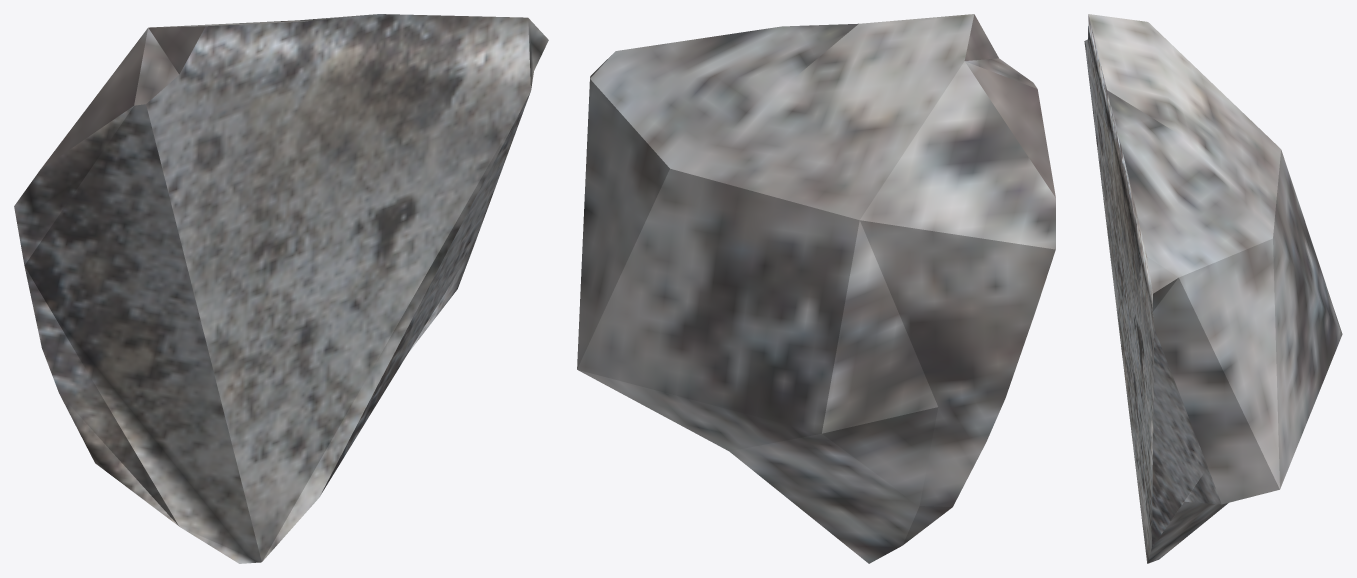
The model's file is Asteroid_Small_001_03_003.fbx.
The picture shows the model from 3 angles, left to right: view 1: azimuth 30°, elevation 25°; view 2: azimuth 150°, elevation 25°; view 3: azimuth 270°, elevation 25°; orthographic projection. The views are drawn at different scales.
Parts seen in each view (by area): view 1: Asteroid_Small_001_03_003; view 2: Asteroid_Small_001_03_003; view 3: Asteroid_Small_001_03_003.
Part boxes in pixels (x1,y1,x2,y2): Asteroid_Small_001_03_003: (14, 14, 548, 563); Asteroid_Small_001_03_003: (577, 14, 1055, 563); Asteroid_Small_001_03_003: (1084, 14, 1342, 563).
Size of the model in its own units: 6.67 by 7.17 by 3.26.
